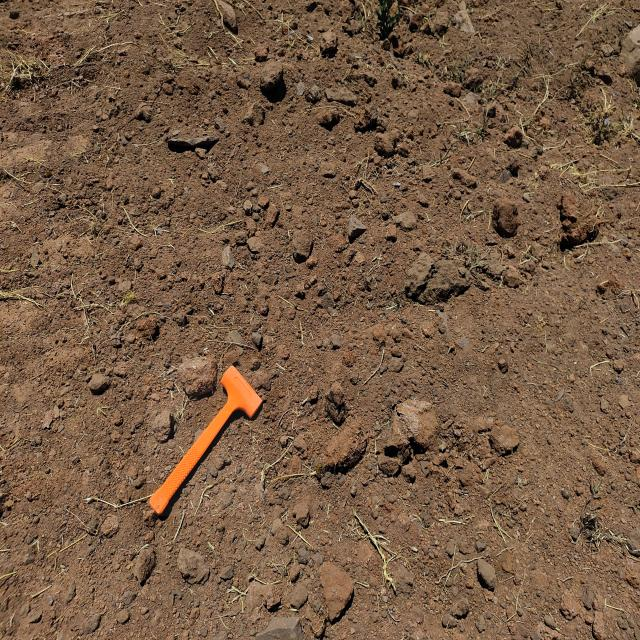Orange_hammer: (147, 363, 264, 516)
